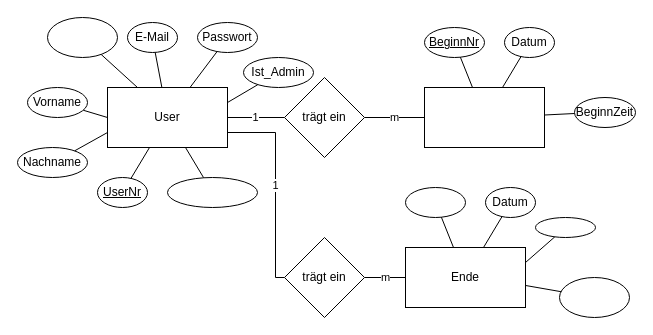
This 653x335 diagram has some shape labels left out. The shapes that lost their labels are listed below. From the top down, each one's box as (x1, y1, x2, y2) in pixels, then its label:
(46, 16, 118, 58): Soll-Arbeitszeit
(424, 86, 544, 148): Beginn
(166, 176, 258, 208): Geburtsdatum
(404, 186, 466, 218): EndeNr
(534, 216, 596, 238): EndeZeit
(558, 276, 630, 318): Kommentar
